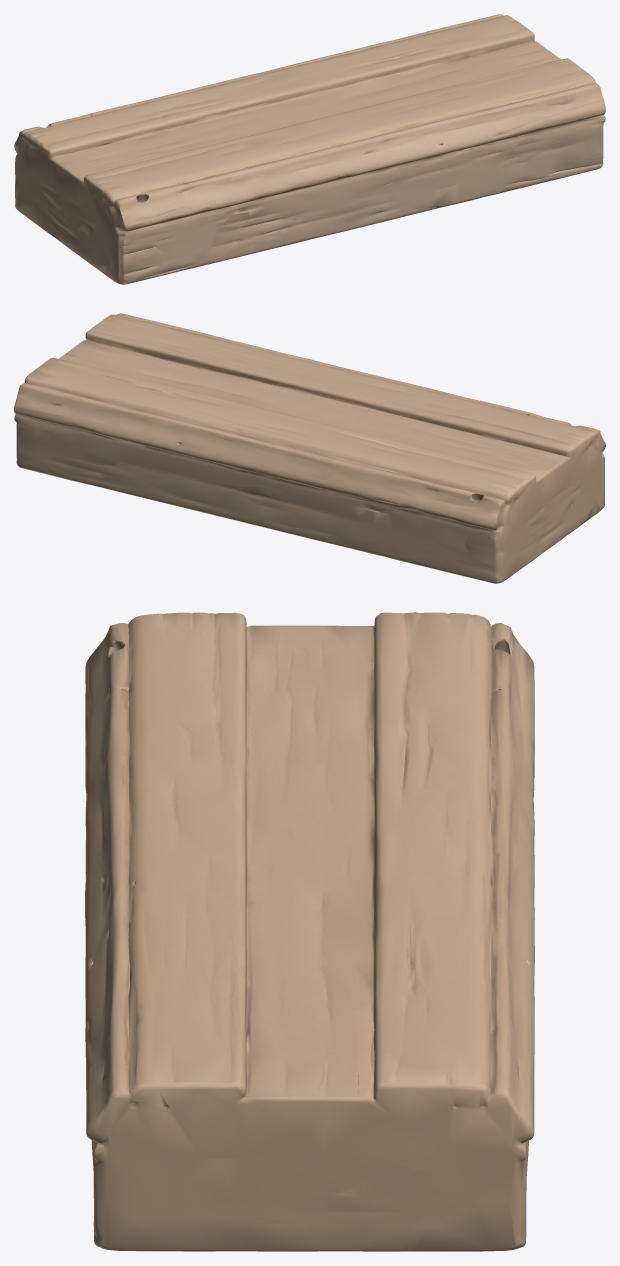
File: decor_wood_molding_idle.glb
3 views of the same model, one above another, from view 1: azimuth 30°, elevation 25°; view 2: azimuth 150°, elevation 25°; view 3: azimuth 270°, elevation 25° (orthographic). The views are drawn at different scales.
Parts seen in each view (by area): view 1: tripo_node_6fb418a8-d819-444b-a04d-a004e0341b88; view 2: tripo_node_6fb418a8-d819-444b-a04d-a004e0341b88; view 3: tripo_node_6fb418a8-d819-444b-a04d-a004e0341b88.
Part boxes in pixels (x1,y1,x2,y2): tripo_node_6fb418a8-d819-444b-a04d-a004e0341b88: [14, 14, 605, 284]; tripo_node_6fb418a8-d819-444b-a04d-a004e0341b88: [14, 313, 605, 583]; tripo_node_6fb418a8-d819-444b-a04d-a004e0341b88: [85, 612, 534, 1251].
Bounding box in the file's own units: 0.9999 × 0.1668 × 0.4013.
Materials: 1 (1 with a texture image).
